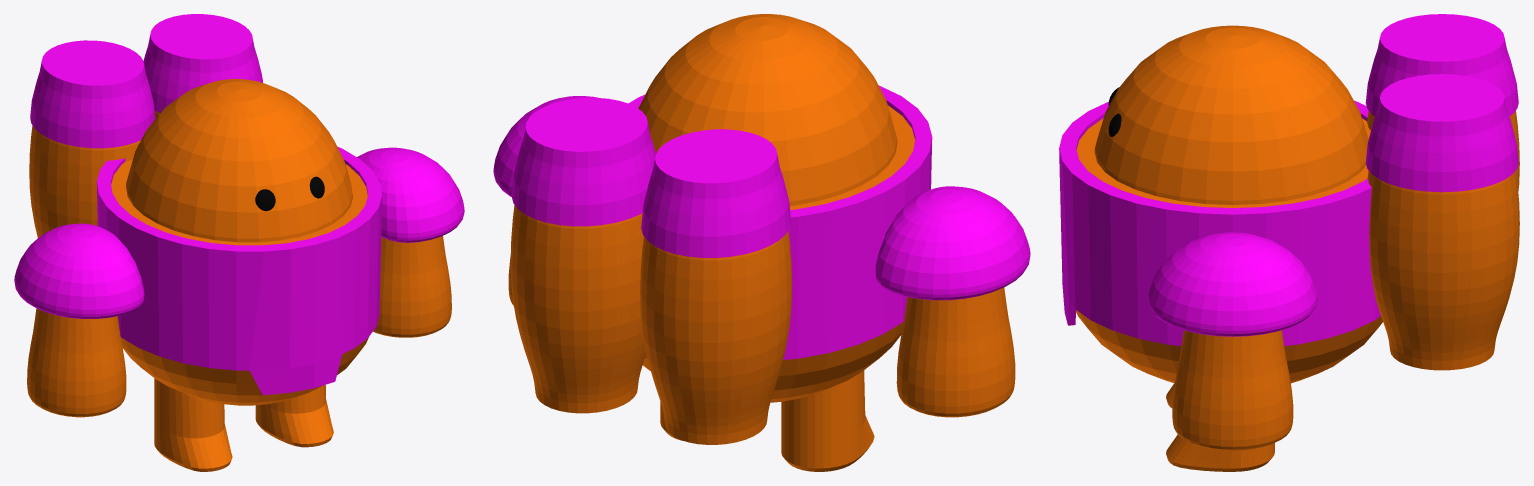
File: FireBat.fbx
The picture shows the model from 3 angles, left to right: view 1: azimuth 30°, elevation 25°; view 2: azimuth 150°, elevation 25°; view 3: azimuth 270°, elevation 25°; orthographic projection. The views are drawn at different scales.
Parts seen in each view (by area): view 1: Sphere.004, Sphere.002, Sphere.005, Cylinder.001, Cylinder.005, Cylinder.003, Sphere.003, Cylinder.004, Cylinder.006, Cylinder.020, Sphere.006; view 2: Sphere.002, Cylinder.004, Cylinder.002, Sphere.004, Cylinder.005, Cylinder.003, Sphere.005, Cylinder.001, Cylinder.006, Sphere.003; view 3: Sphere.002, Sphere.004, Cylinder.002, Cylinder.003, Sphere.005, Cylinder.001, Cylinder.005, Sphere.003, Cylinder.020.
Part boxes in pixels (left/top/right/bottom): Sphere.004: left=96, top=146, right=382, bottom=395; Sphere.002: left=126, top=79, right=352, bottom=242; Sphere.005: left=14, top=147, right=464, bottom=318; Cylinder.001: left=27, top=236, right=451, bottom=417; Cylinder.005: left=30, top=40, right=155, bottom=148; Cylinder.003: left=143, top=14, right=262, bottom=112; Sphere.003: left=111, top=160, right=368, bottom=405; Cylinder.004: left=29, top=125, right=140, bottom=237; Cylinder.006: left=154, top=378, right=232, bottom=471; Cylinder.020: left=255, top=385, right=333, bottom=447; Sphere.006: left=255, top=176, right=324, bottom=211; Sphere.002: left=638, top=14, right=897, bottom=206; Cylinder.004: left=640, top=231, right=792, bottom=444; Cylinder.002: left=510, top=205, right=646, bottom=413; Sphere.004: left=628, top=85, right=932, bottom=359; Cylinder.005: left=641, top=129, right=790, bottom=257; Cylinder.003: left=511, top=97, right=655, bottom=226; Sphere.005: left=493, top=96, right=1030, bottom=300; Cylinder.001: left=508, top=257, right=1015, bottom=417; Cylinder.006: left=781, top=370, right=874, bottom=471; Sphere.003: left=642, top=105, right=914, bottom=402; Sphere.002: left=1094, top=25, right=1368, bottom=204; Sphere.004: left=1059, top=100, right=1380, bottom=345; Cylinder.002: left=1367, top=171, right=1519, bottom=370; Cylinder.003: left=1365, top=74, right=1518, bottom=192; Sphere.005: left=1148, top=232, right=1317, bottom=336; Cylinder.001: left=1172, top=330, right=1293, bottom=450; Cylinder.005: left=1365, top=14, right=1518, bottom=116; Sphere.003: left=1076, top=118, right=1382, bottom=383; Cylinder.020: left=1166, top=434, right=1274, bottom=471.
Bounding box in the file's own units: 220 × 170 × 180.
